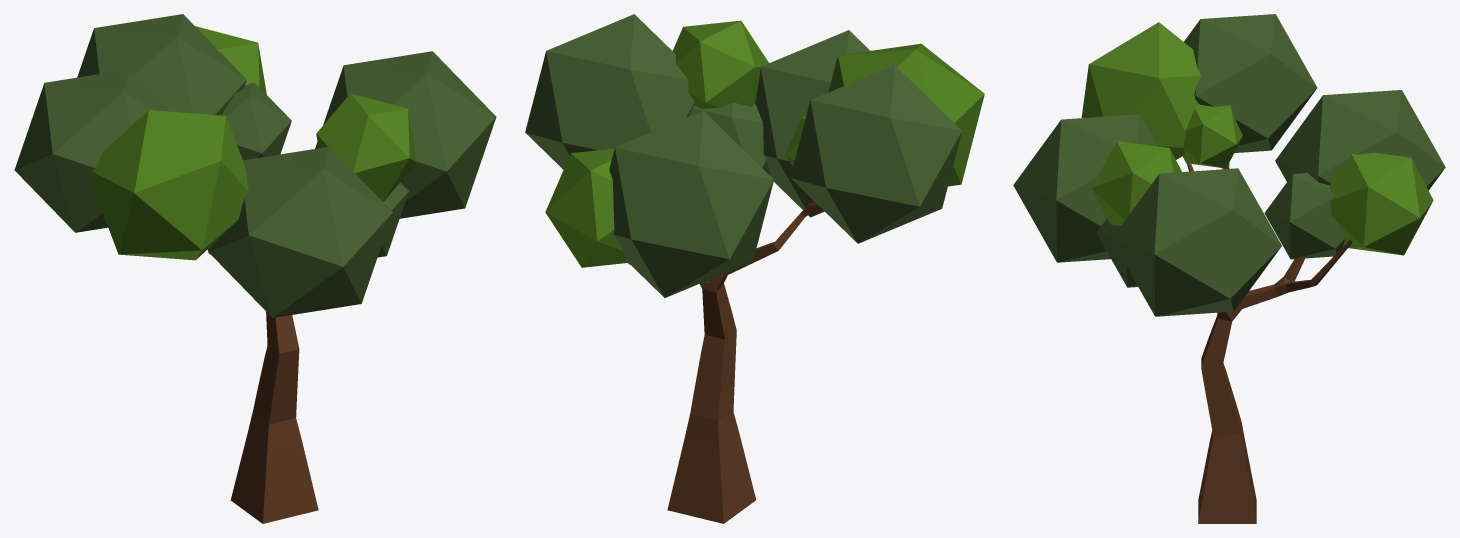
Rendered from Tree3.fbx.
The picture shows the model from 3 angles, left to right: view 1: azimuth 30°, elevation 25°; view 2: azimuth 150°, elevation 25°; view 3: azimuth 270°, elevation 25°; orthographic projection. The views are drawn at different scales.
Visible parts, largest first — view 1: Tree3; view 2: Tree3; view 3: Tree3.
Part boxes in pixels (x1=…): Tree3: x1=14, y1=14, x2=496, y2=523; Tree3: x1=525, y1=14, x2=984, y2=523; Tree3: x1=1013, y1=14, x2=1445, y2=523.
Bounding box in the file's own units: 374 × 398 × 372.
